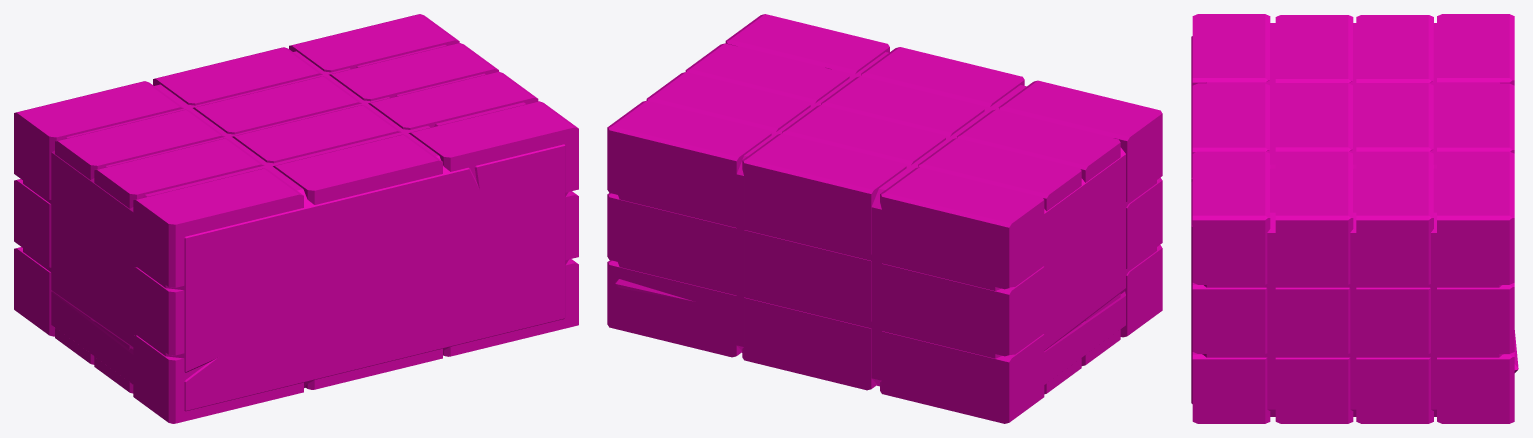
Rendered from mattoni.fbx.
3 renders of one model, left to right at view 1: azimuth 30°, elevation 25°; view 2: azimuth 150°, elevation 25°; view 3: azimuth 270°, elevation 25°, orthographic. The views are drawn at different scales.
Visible parts, largest first — view 1: mattone_mattoncini, mattone_grande; view 2: mattone_mattoncini, mattone_grande; view 3: mattone_mattoncini, mattone_grande.
Boxes of the visible parts, x1,y1,x2,y2 form: mattone_mattoncini: (14, 14, 578, 423); mattone_grande: (23, 45, 568, 411); mattone_mattoncini: (607, 14, 1162, 423); mattone_grande: (615, 46, 1156, 386); mattone_mattoncini: (1192, 14, 1514, 423); mattone_grande: (1191, 23, 1518, 416).
Size of the model in its own units: 112 by 53.06 by 76.26.
